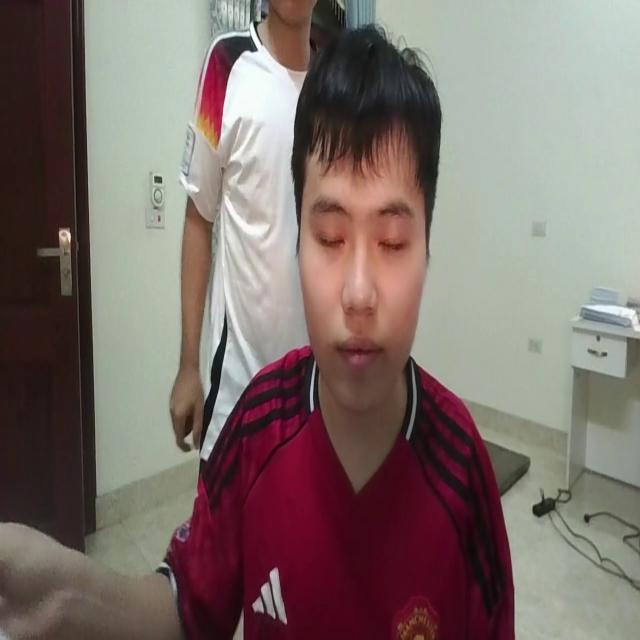extra_person: (159, 2, 324, 466)
student: (156, 18, 512, 640)
